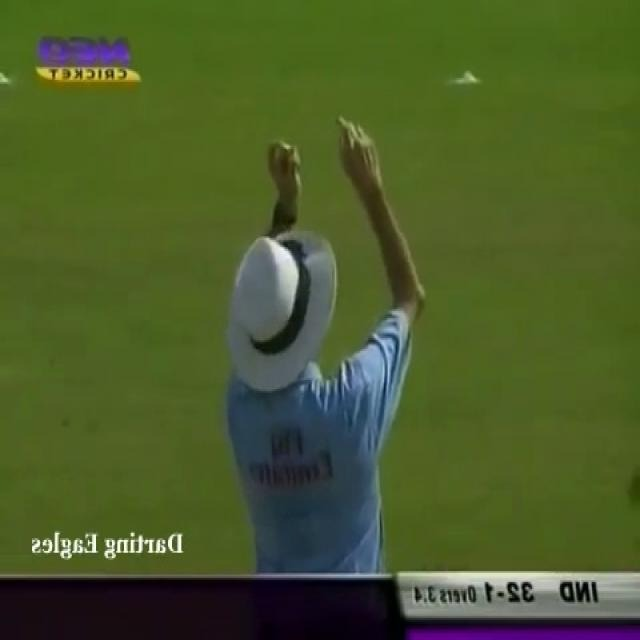Six: (218, 104, 441, 574)
